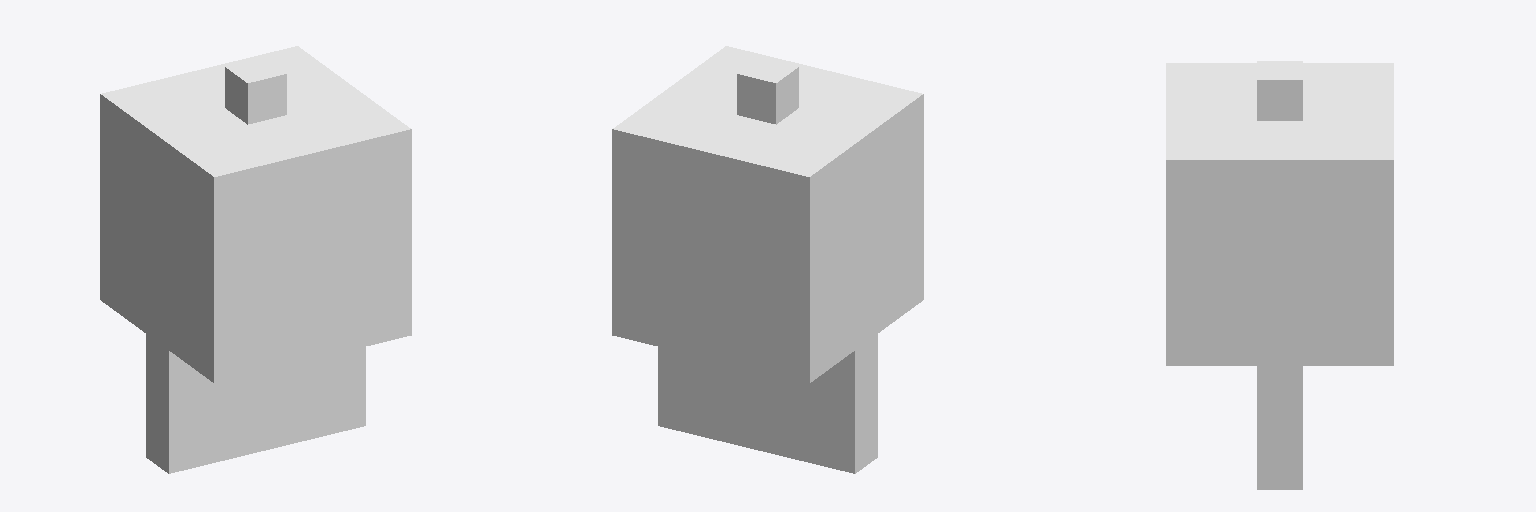
The model's file is people_3-4.obj.
3 views of the same model, side by side, from view 1: azimuth 30°, elevation 25°; view 2: azimuth 150°, elevation 25°; view 3: azimuth 270°, elevation 25° (orthographic).
Parts seen in each view (by area): view 1: object 1; view 2: object 1; view 3: object 1.
Part boxes in pixels (x1,y1,x2,y2): object 1: (100,46,411,473); object 1: (612,46,923,473); object 1: (1166,61,1393,489).
Bounding box in the file's own units: 0.5 × 0.9 × 0.5.